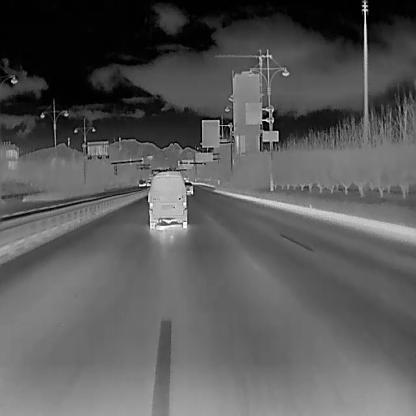car: (147, 171, 188, 228), (184, 181, 193, 195), (138, 180, 145, 185), (146, 179, 151, 186)
